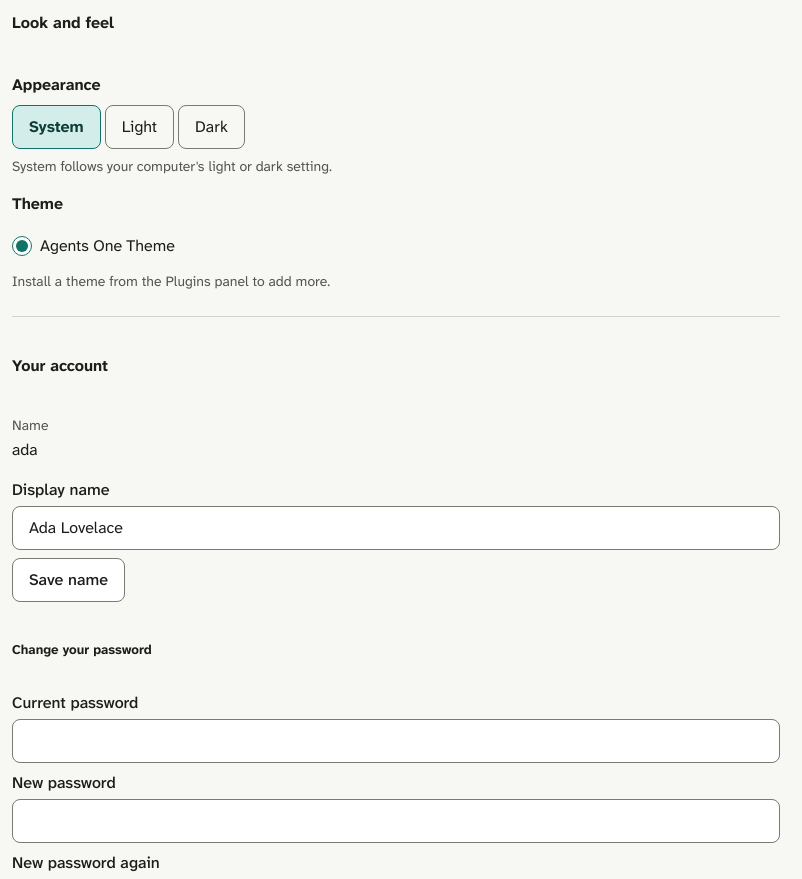
Test case: Settings, your account › does not save an empty display name
This screenshot has width=802, height=879.
Clear the field labelled "Display name". click: (396, 528)
box: [12,506,780,550]
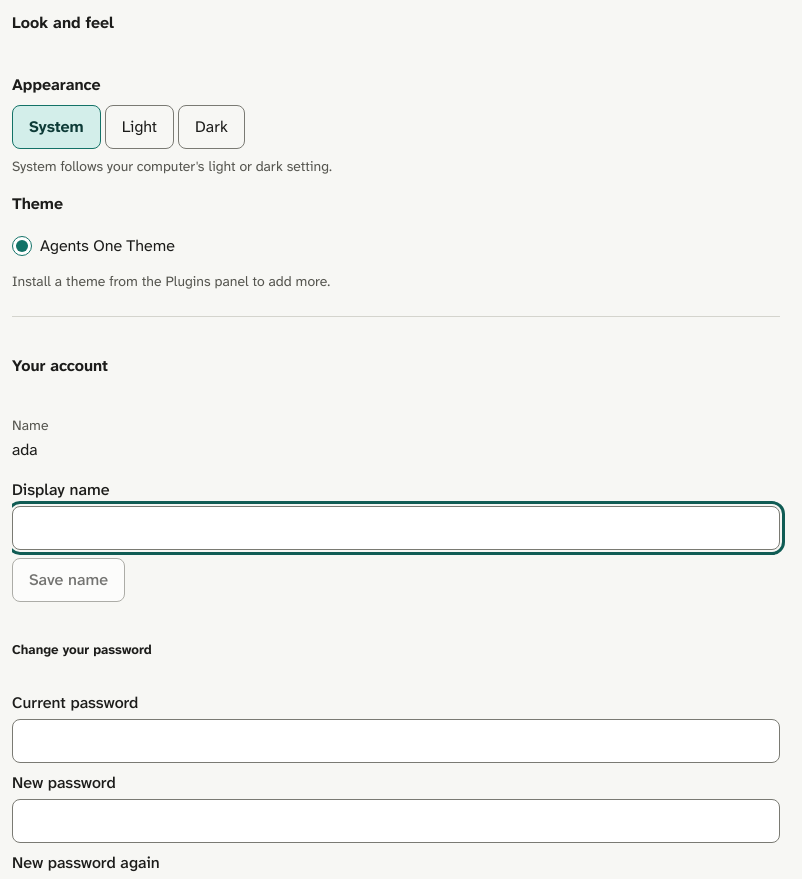
Now the button "Save name" is disabled, box [12,558,125,602]
